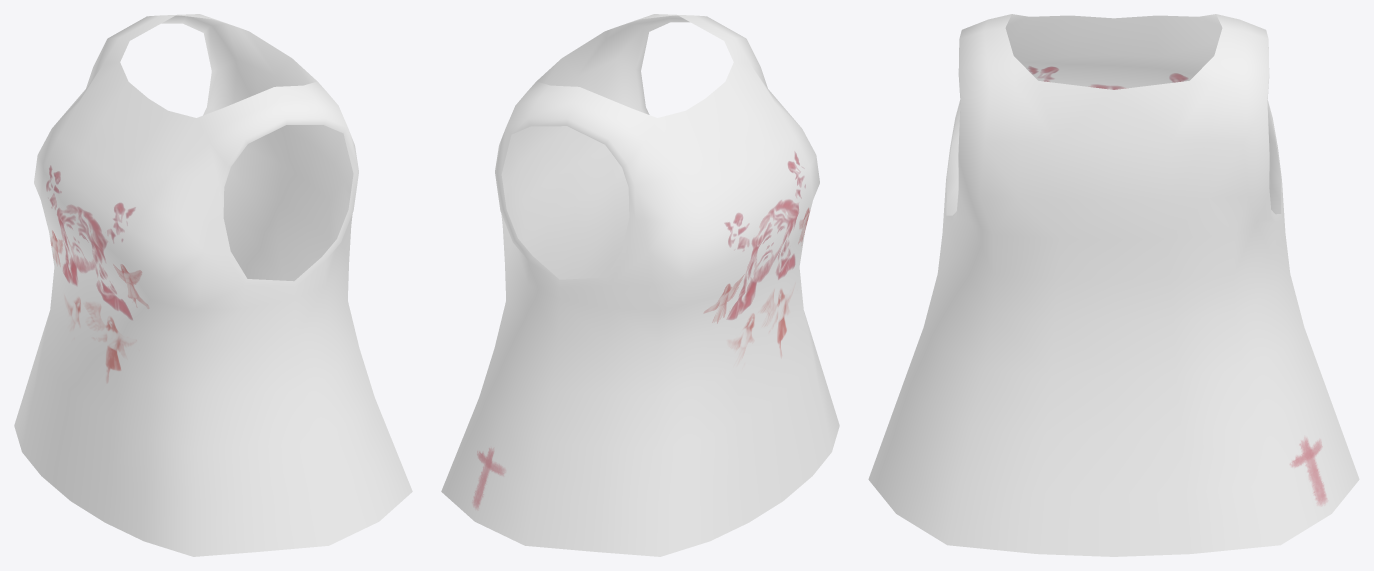
Rendered from shirt_jesustank.gltf.
3 views of the same model, side by side, from view 1: azimuth 30°, elevation 25°; view 2: azimuth 150°, elevation 25°; view 3: azimuth 270°, elevation 25° (orthographic). The views are drawn at different scales.
Visible parts, largest first — view 1: RefTank; view 2: RefTank; view 3: RefTank.
Boxes of the visible parts, bbox=[...] form: RefTank: bbox=[14, 14, 412, 556]; RefTank: bbox=[441, 14, 839, 556]; RefTank: bbox=[868, 14, 1359, 556].
Size of the model in its own units: 0.2481 by 0.3459 by 0.3354.
1 material, 1 textured.
